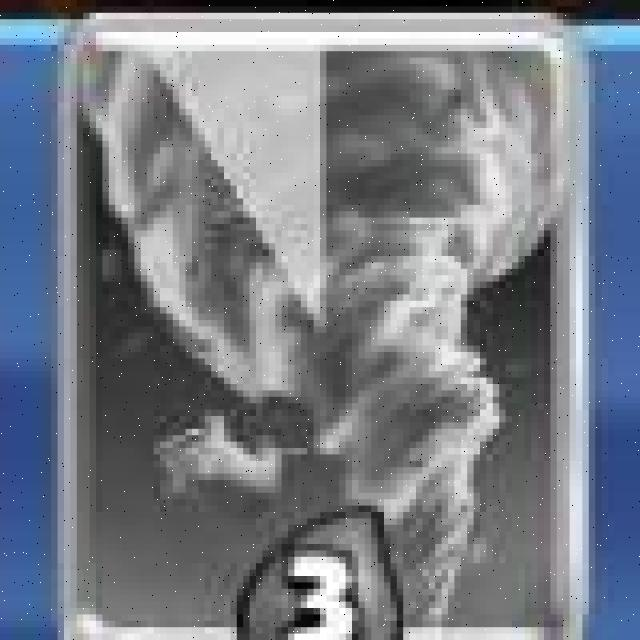Tornado: (58, 11, 585, 640)
